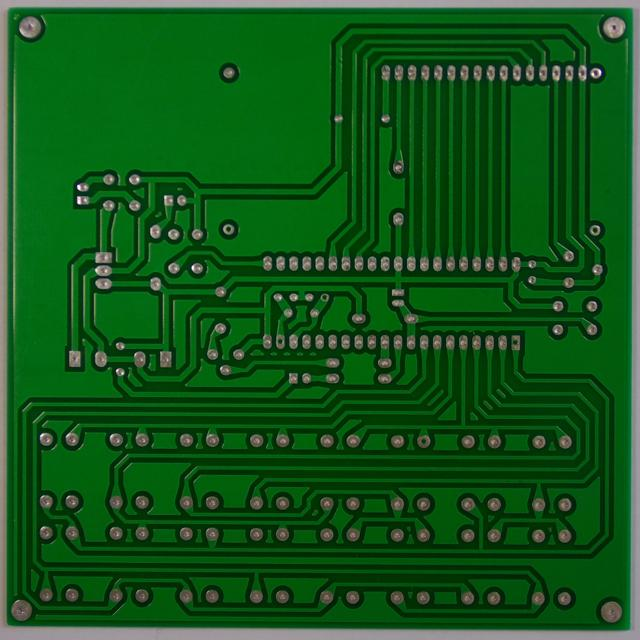missing_hole: (416, 432, 431, 450), (586, 223, 602, 239), (507, 334, 522, 351), (272, 334, 287, 348), (222, 222, 234, 235), (319, 291, 330, 304)
